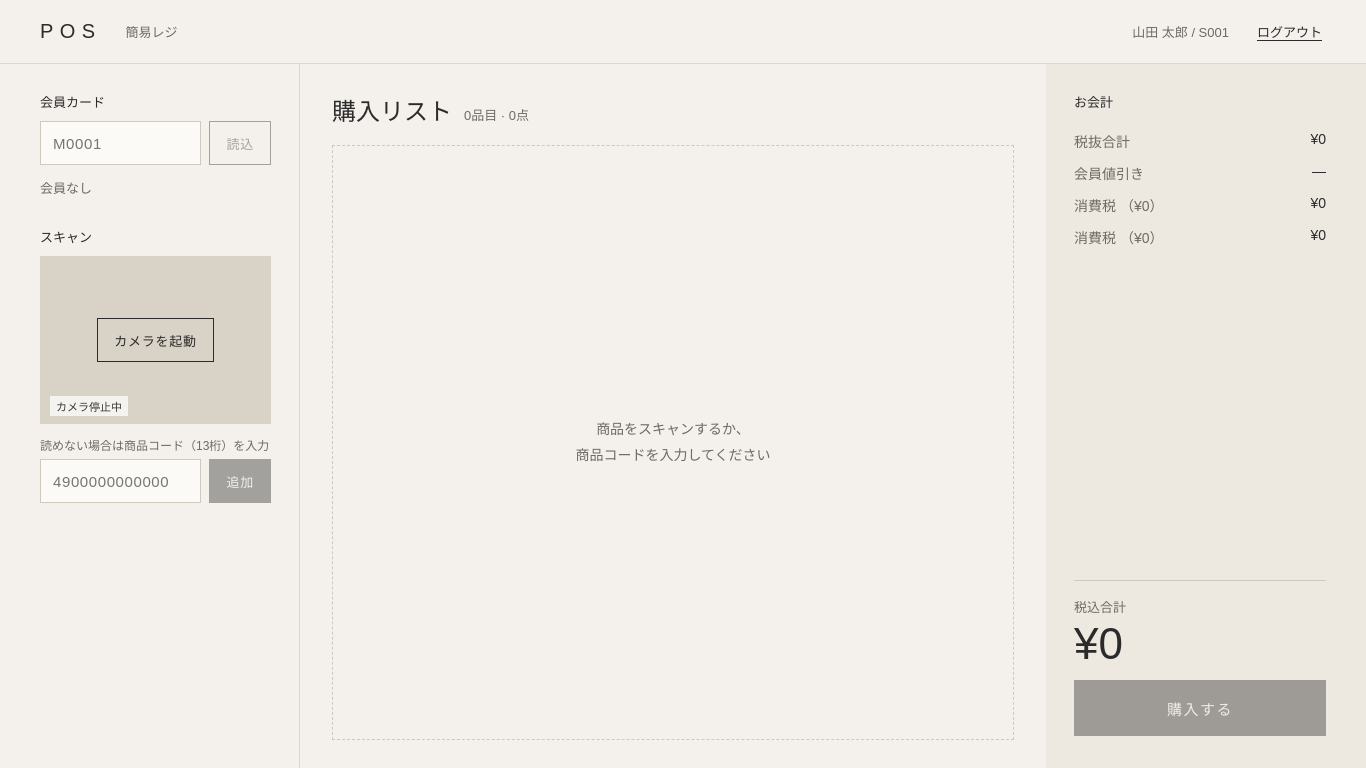
it: 存在しない会員ID › レジ画面でエラーを表示し、会員として扱わない
In the field labelled "会員カード": (121, 143) [40, 121, 201, 165], type "M9999"
Then press Enter
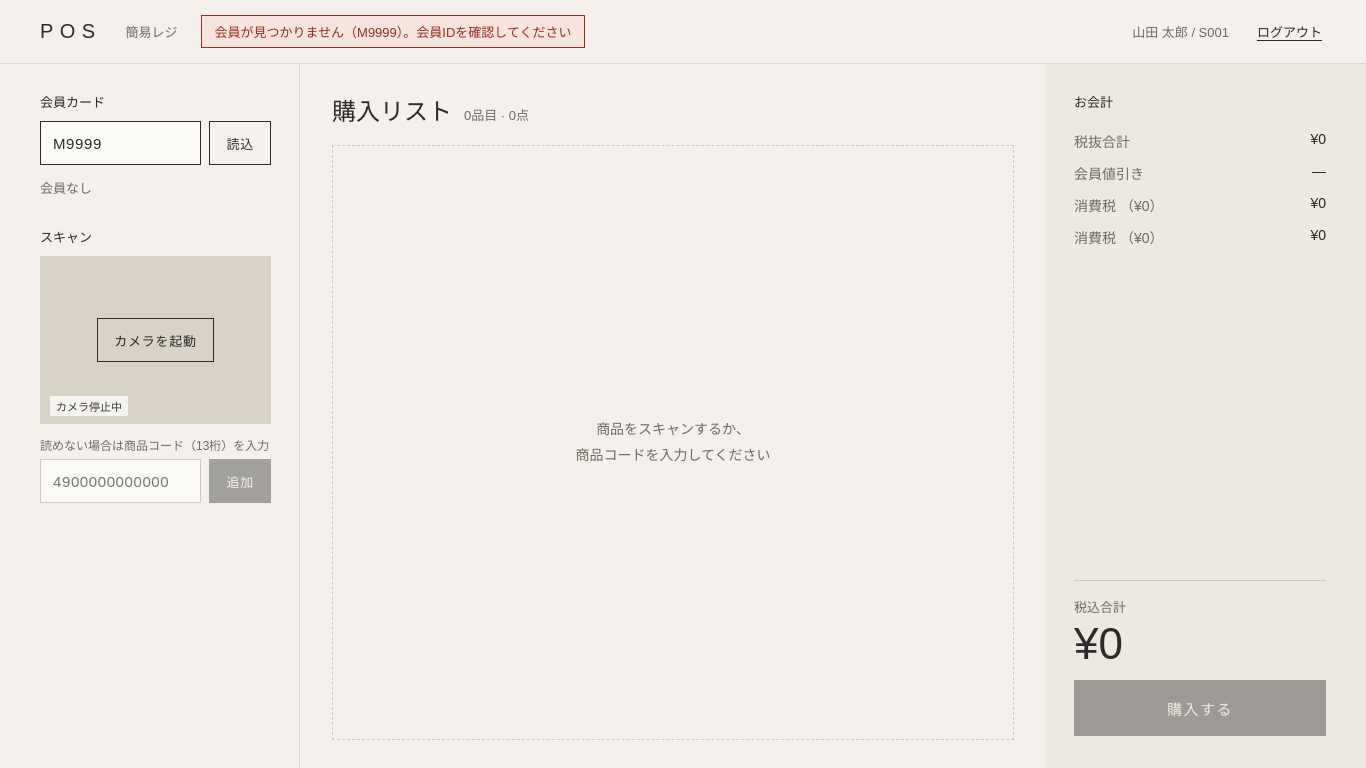
Check: the text "会員なし" is shown, box [40, 178, 92, 196]
Check: the text "会員が見つかりません（M9999）。会員IDを確認してください" is shown, box [202, 15, 585, 48]
